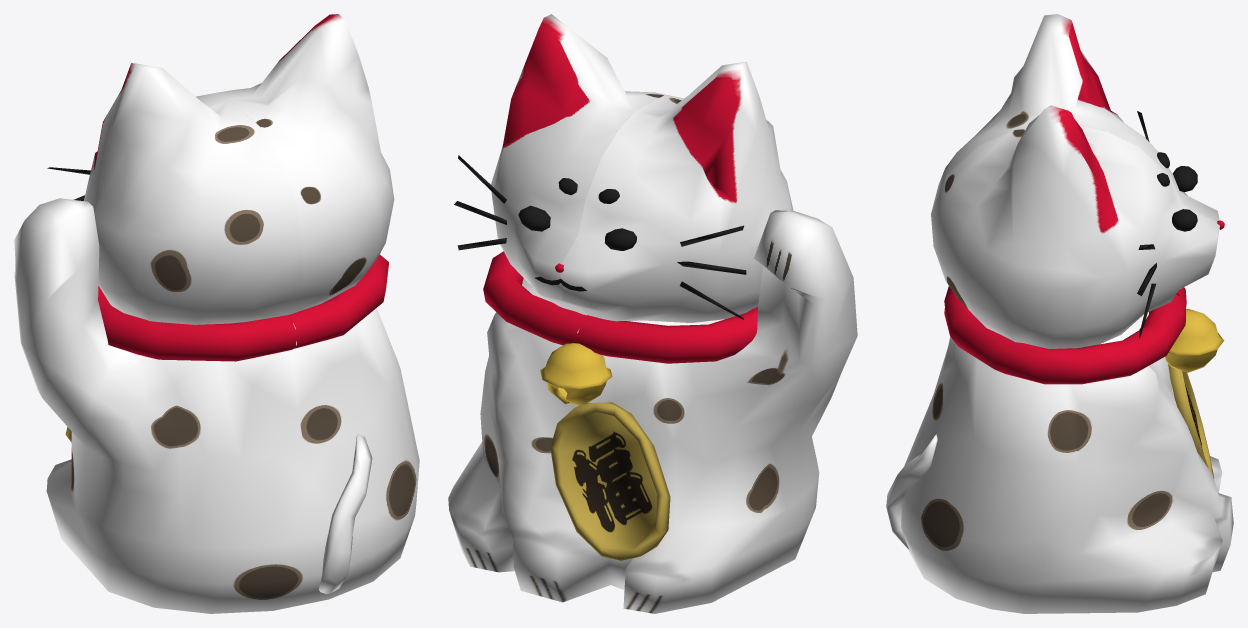
File: manekineko.obj
3 renders of one model, left to right at view 1: azimuth 30°, elevation 25°; view 2: azimuth 150°, elevation 25°; view 3: azimuth 270°, elevation 25°, orthographic. The views are drawn at different scales.
Visible parts, largest first — view 1: 平面.003; view 2: 平面.003; view 3: 平面.003.
Part boxes in pixels (left/top/right/bottom): 平面.003: left=14, top=14, right=419, bottom=613; 平面.003: left=448, top=14, right=857, bottom=613; 平面.003: left=886, top=14, right=1233, bottom=613.
Bounding box in the file's own units: 3.18 × 4.27 × 2.74.
Materials: 7 (7 with a texture image).
